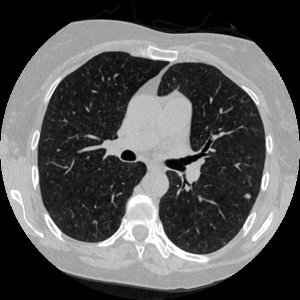nodule: (245, 194, 249, 198)
